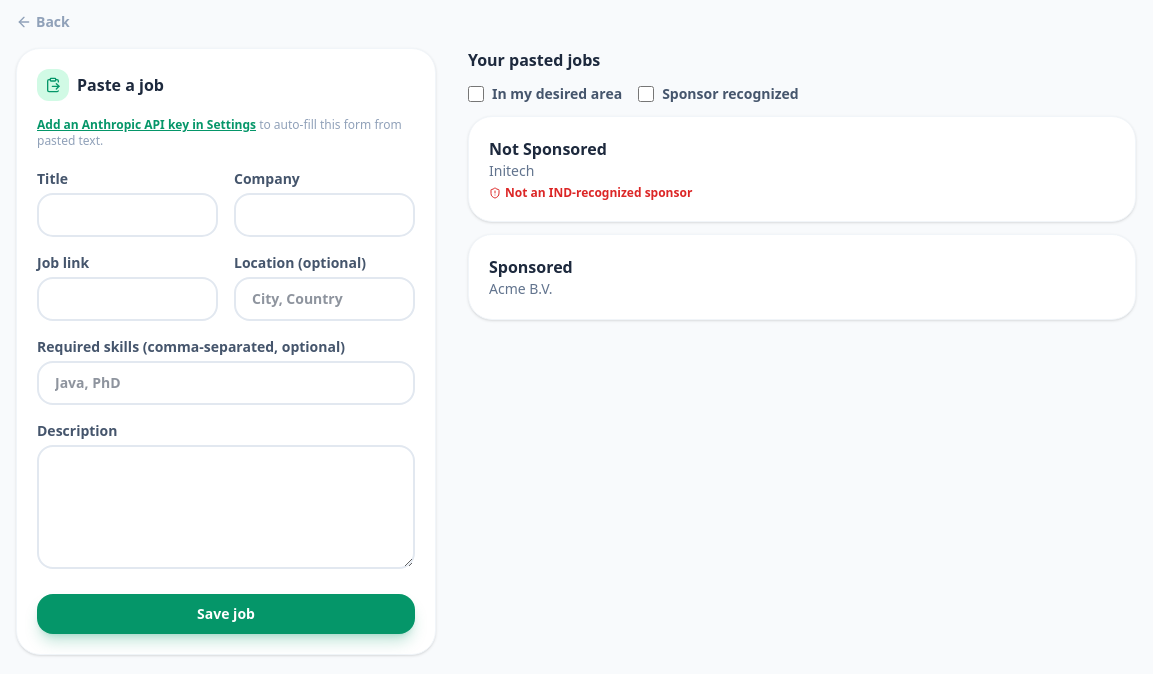
Test: Jobs › filters the list to sponsor-recognized companies
Expected: the text "Not Sponsored" is shown, [489,138,607,160]
Click the checkbox labelled "Sponsor recognized".
click(646, 94)  # box [638,86,654,102]
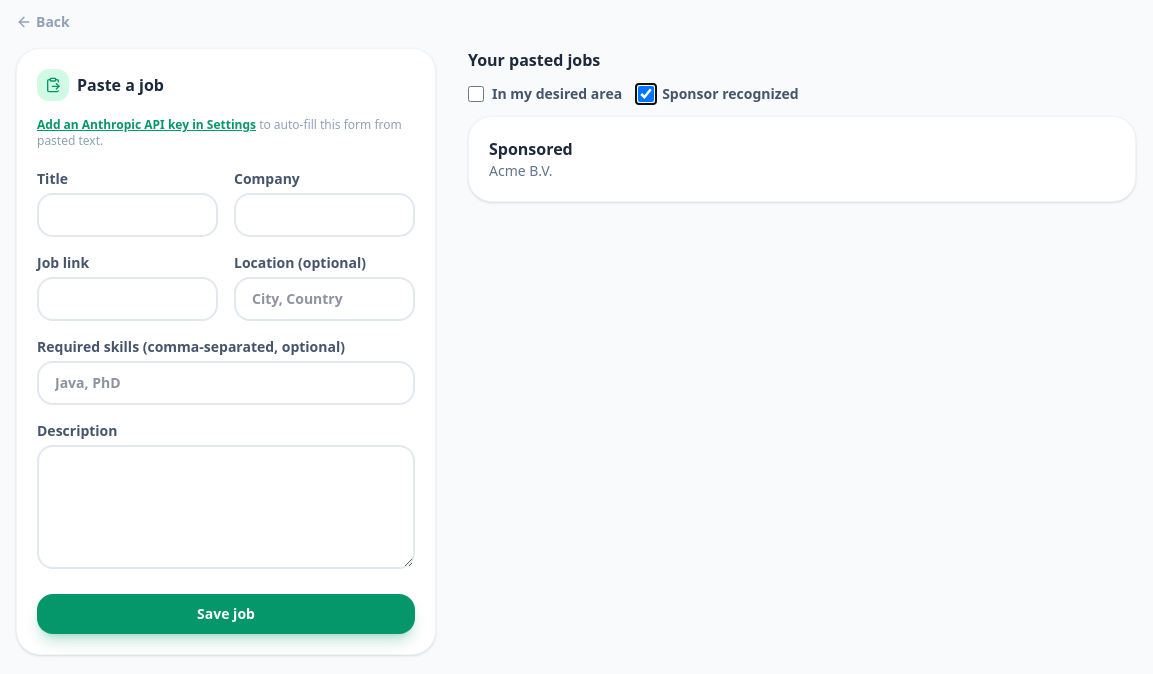
Expected: the text "Sponsored" is shown, [489,138,573,160]
Now the text "Not Sponsored" is gone
